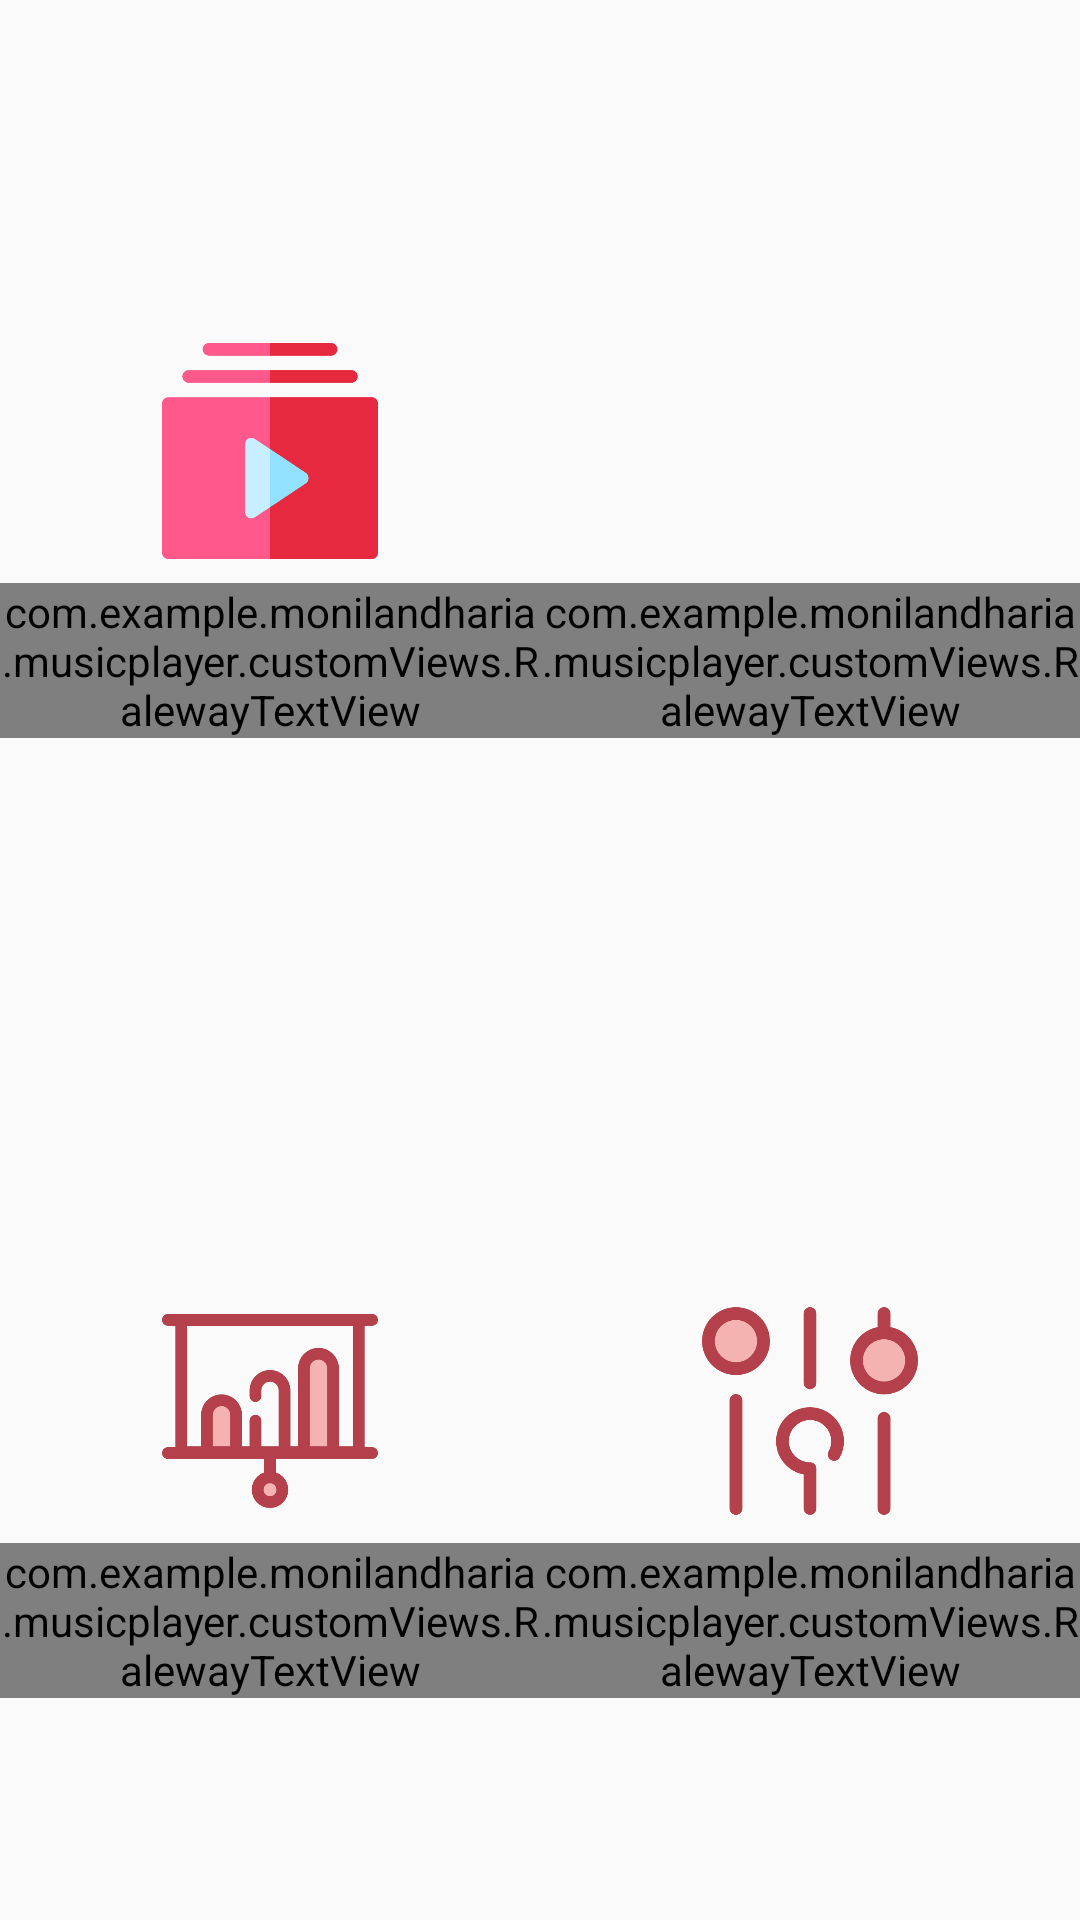

Screen size 1080px x 1920px. Icon name, then its box in pixels as {"x1": x1, "y1": y1, "x2": x2, "y2": y2}:
playlists: {"x1": 162, "y1": 343, "x2": 378, "y2": 559}
settings: {"x1": 702, "y1": 1307, "x2": 918, "y2": 1515}
stats: {"x1": 162, "y1": 1314, "x2": 378, "y2": 1508}
